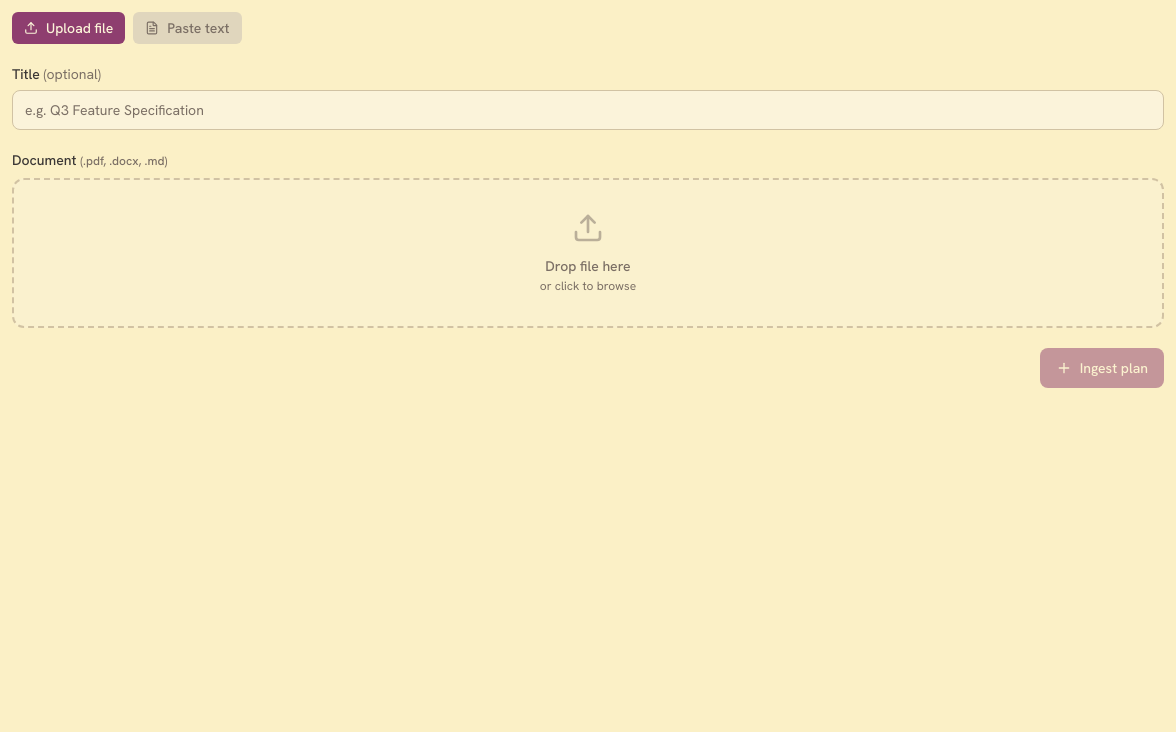
Test: <PlanUploadForm> › shows an error when the API returns a non-2xx on text submit
Click the button "Paste text" at (187, 28), box [133,12,242,44]
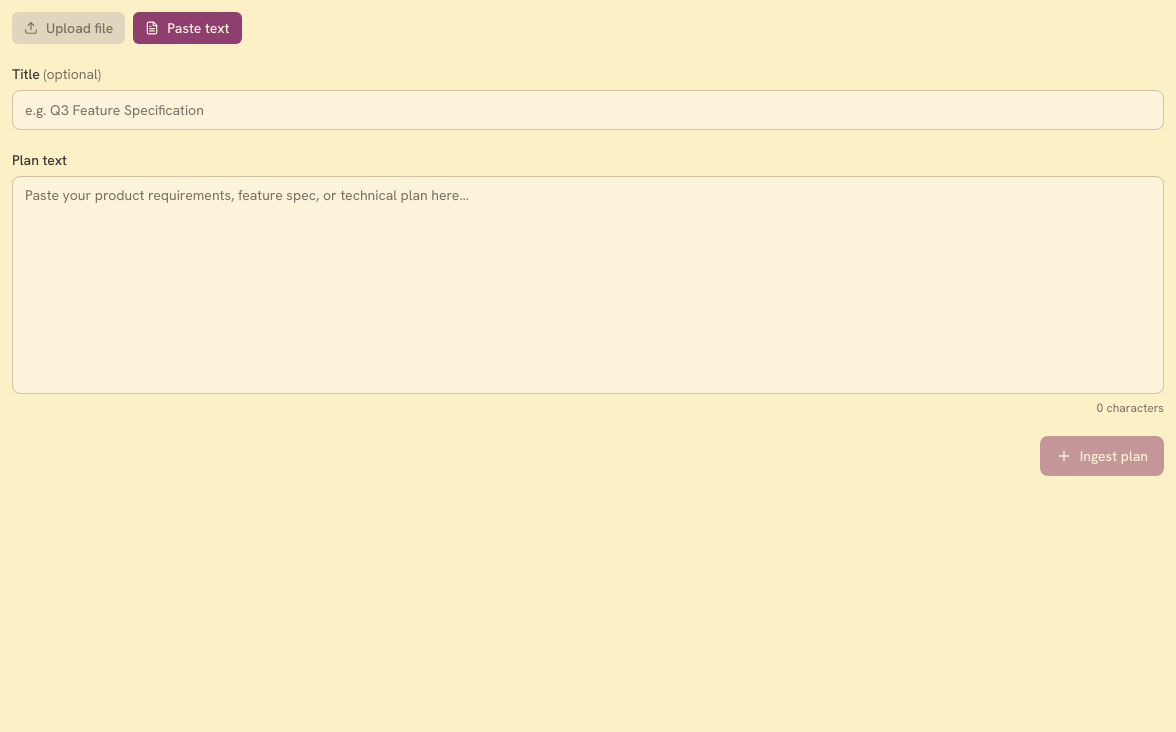
Replace the text in the text box with test id "plan-text-input" with "content" at (588, 285), box [12,176,1164,394]
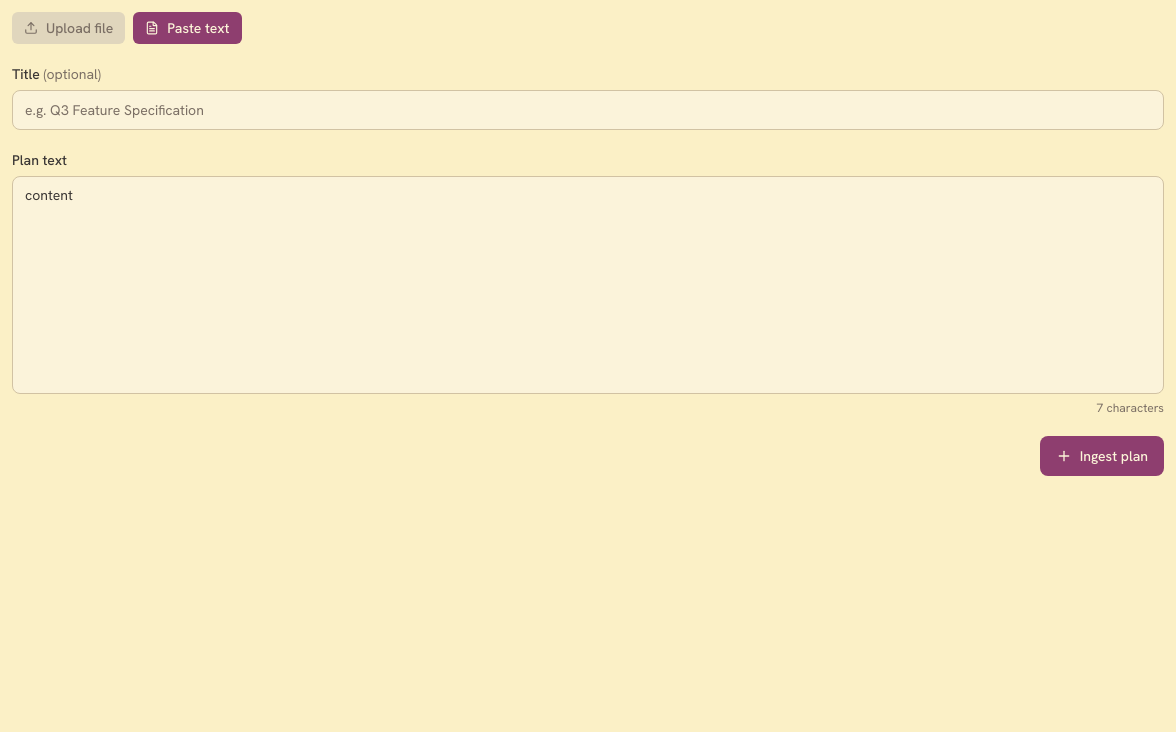
Click the button with test id "submit-btn" at (1102, 456), box [1040,436,1164,476]
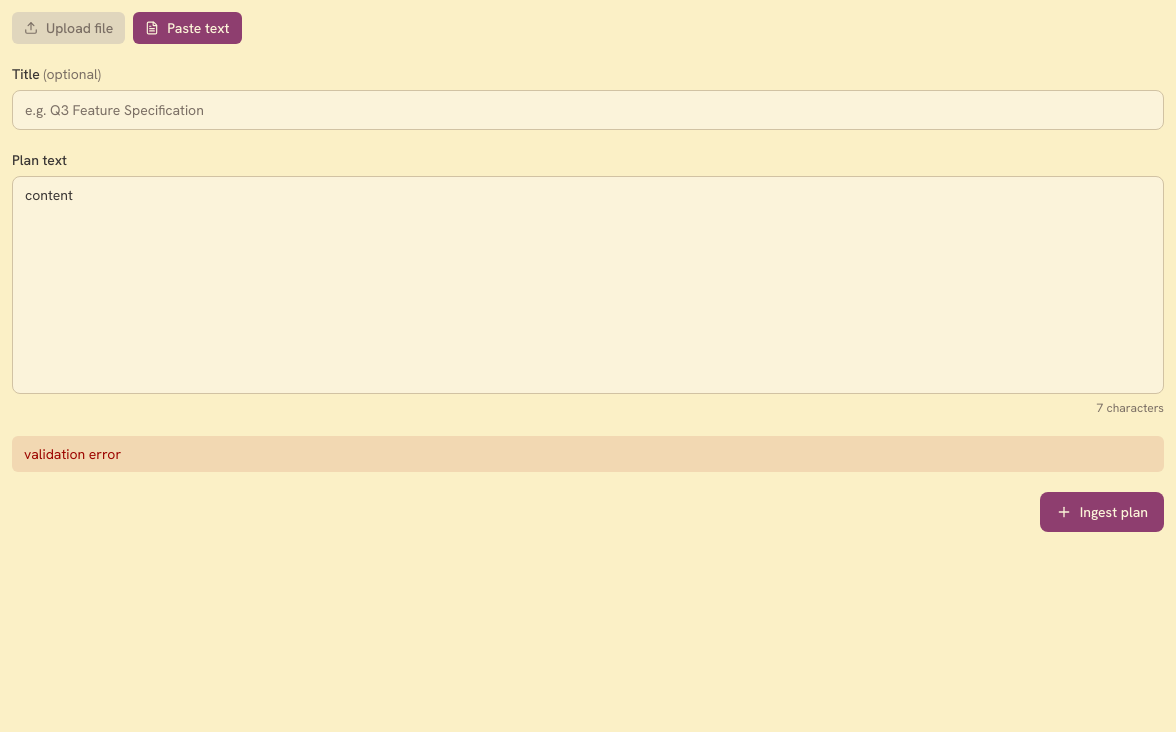
Now the message reads "validation error", box [24,445,121,463]
